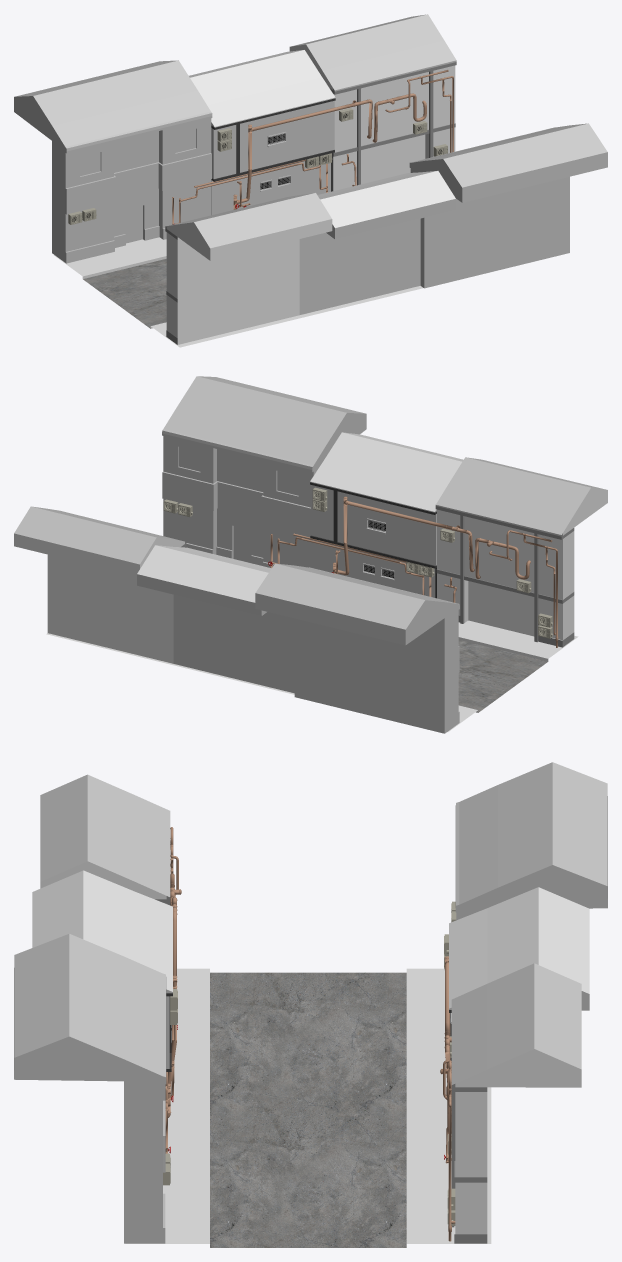
The model's file is normal_city.fbx.
The picture shows the model from 3 angles, top to bottom: view 1: azimuth 30°, elevation 25°; view 2: azimuth 150°, elevation 25°; view 3: azimuth 270°, elevation 25°; orthographic projection. The views are drawn at different scales.
Visible parts, largest first — view 1: Bat3.001, Bat3, Bat2.001, Bat1.001, Bat2, Bat1, normal_path; view 2: Bat3, Bat3.001, Bat2, Bat1, Bat2.001, Bat1.001, normal_path; view 3: normal_path, Bat3, Bat2.001, Bat3.001, Bat2, Bat1.001, Bat1.
Part boxes in pixels (x1,y1,x2,y2): Bat3.001: [14, 60, 212, 263]; Bat3: [409, 123, 607, 288]; Bat2.001: [289, 14, 456, 190]; Bat1.001: [189, 50, 336, 215]; Bat2: [165, 193, 332, 344]; Bat1: [299, 170, 455, 314]; normal_path: [54, 237, 423, 347]; Bat3: [162, 376, 366, 568]; Bat3.001: [255, 563, 459, 733]; Bat2: [433, 457, 607, 647]; Bat1: [310, 432, 463, 598]; Bat2.001: [14, 506, 186, 663]; Bat1.001: [137, 545, 294, 693]; normal_path: [46, 620, 578, 732]; normal_path: [125, 968, 491, 1247]; Bat3: [14, 933, 170, 1243]; Bat2.001: [440, 963, 581, 1243]; Bat3.001: [451, 762, 607, 922]; Bat2: [40, 774, 181, 1030]; Bat1.001: [444, 887, 589, 1060]; Bat1: [32, 870, 177, 1117].
Bounding box in the file's own units: 16178 × 5794 × 14764.
